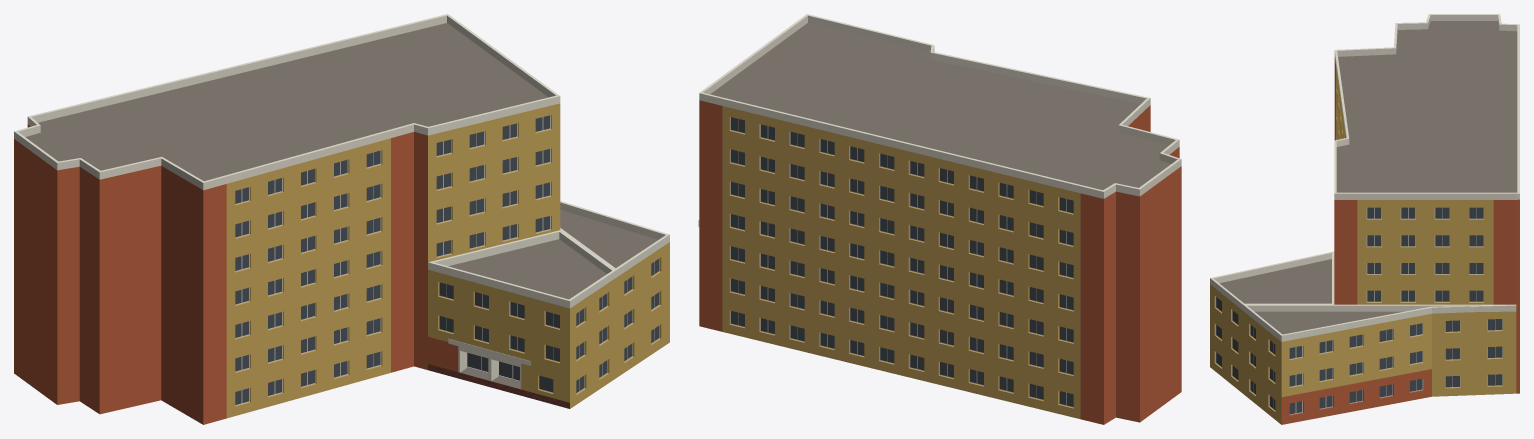
3 renders of one model, left to right at view 1: azimuth 30°, elevation 25°; view 2: azimuth 150°, elevation 25°; view 3: azimuth 270°, elevation 25°, orthographic. The views are drawn at different scales.
Visible parts, largest first — view 1: kHouse__wall, kHouse__orange, kHouse__roof, kHouse__trim, kHouse__glass, kHouse__frame, kHouse__brick; view 2: kHouse__wall, kHouse__roof, kHouse__orange, kHouse__glass, kHouse__trim, kHouse__frame; view 3: kHouse__roof, kHouse__wall, kHouse__orange, kHouse__trim, kHouse__glass, kHouse__frame.
Boxes of the visible parts, box(x1,y1,x2,y2) form: kHouse__wall: box(226, 103, 669, 418); kHouse__orange: box(14, 124, 458, 424); kHouse__roof: box(25, 23, 657, 388); kHouse__trim: box(14, 14, 669, 389); kHouse__glass: box(235, 115, 659, 404); kHouse__frame: box(235, 115, 659, 405); kHouse__brick: box(428, 364, 569, 408); kHouse__wall: box(722, 106, 1080, 419); kHouse__roof: box(710, 22, 1170, 190); kHouse__orange: box(699, 100, 1181, 424); kHouse__glass: box(731, 117, 1073, 406); kHouse__trim: box(698, 14, 1181, 226); kHouse__frame: box(730, 117, 1073, 407); kHouse__roof: box(1220, 21, 1517, 334); kHouse__wall: box(1210, 67, 1516, 424); kHouse__orange: box(1281, 57, 1519, 424); kHouse__trim: box(1210, 14, 1519, 341); kHouse__glass: box(1216, 207, 1502, 414); kHouse__frame: box(1216, 207, 1502, 414).
Bounding box in the file's own units: 52.31 × 23.1 × 32.43.
Materials: 7 (1 with a texture image).
